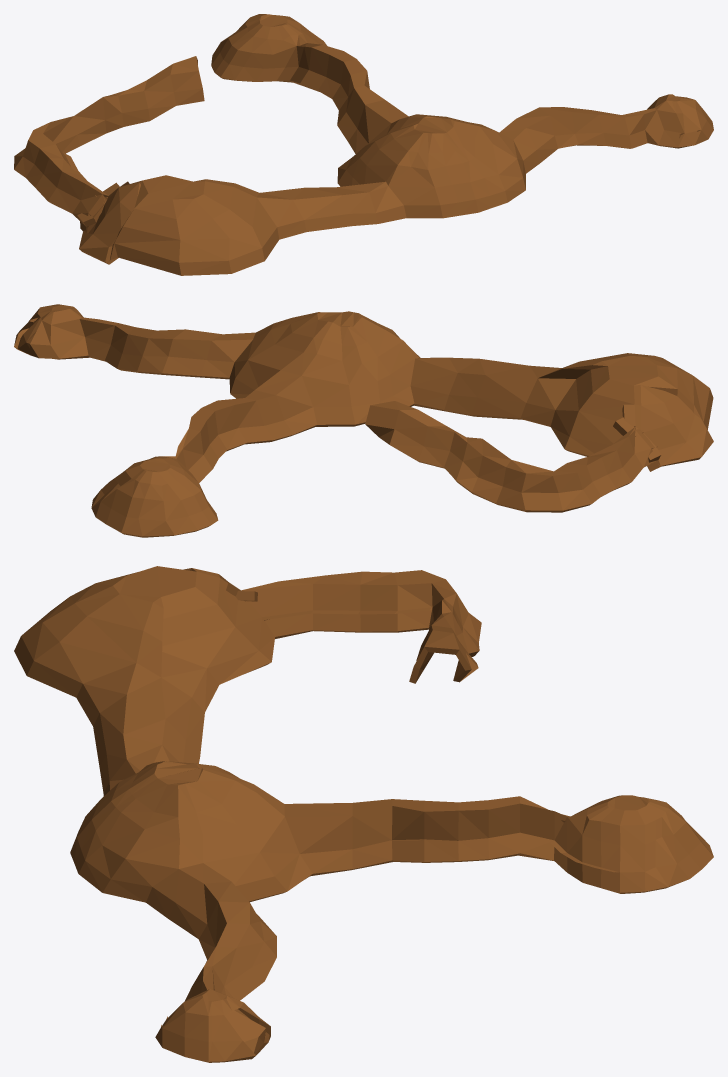
3 views of the same model, one above another, from view 1: azimuth 30°, elevation 25°; view 2: azimuth 150°, elevation 25°; view 3: azimuth 270°, elevation 25° (orthographic). The views are drawn at different scales.
Visible parts, largest first — view 1: Plane.012; view 2: Plane.012; view 3: Plane.012.
Boxes of the visible parts, box(x1,y1,x2,y2) form: Plane.012: box(14, 14, 713, 275); Plane.012: box(14, 304, 713, 537); Plane.012: box(14, 566, 713, 1062).
Size of the model in its own units: 9777 by 1536 by 6912.
